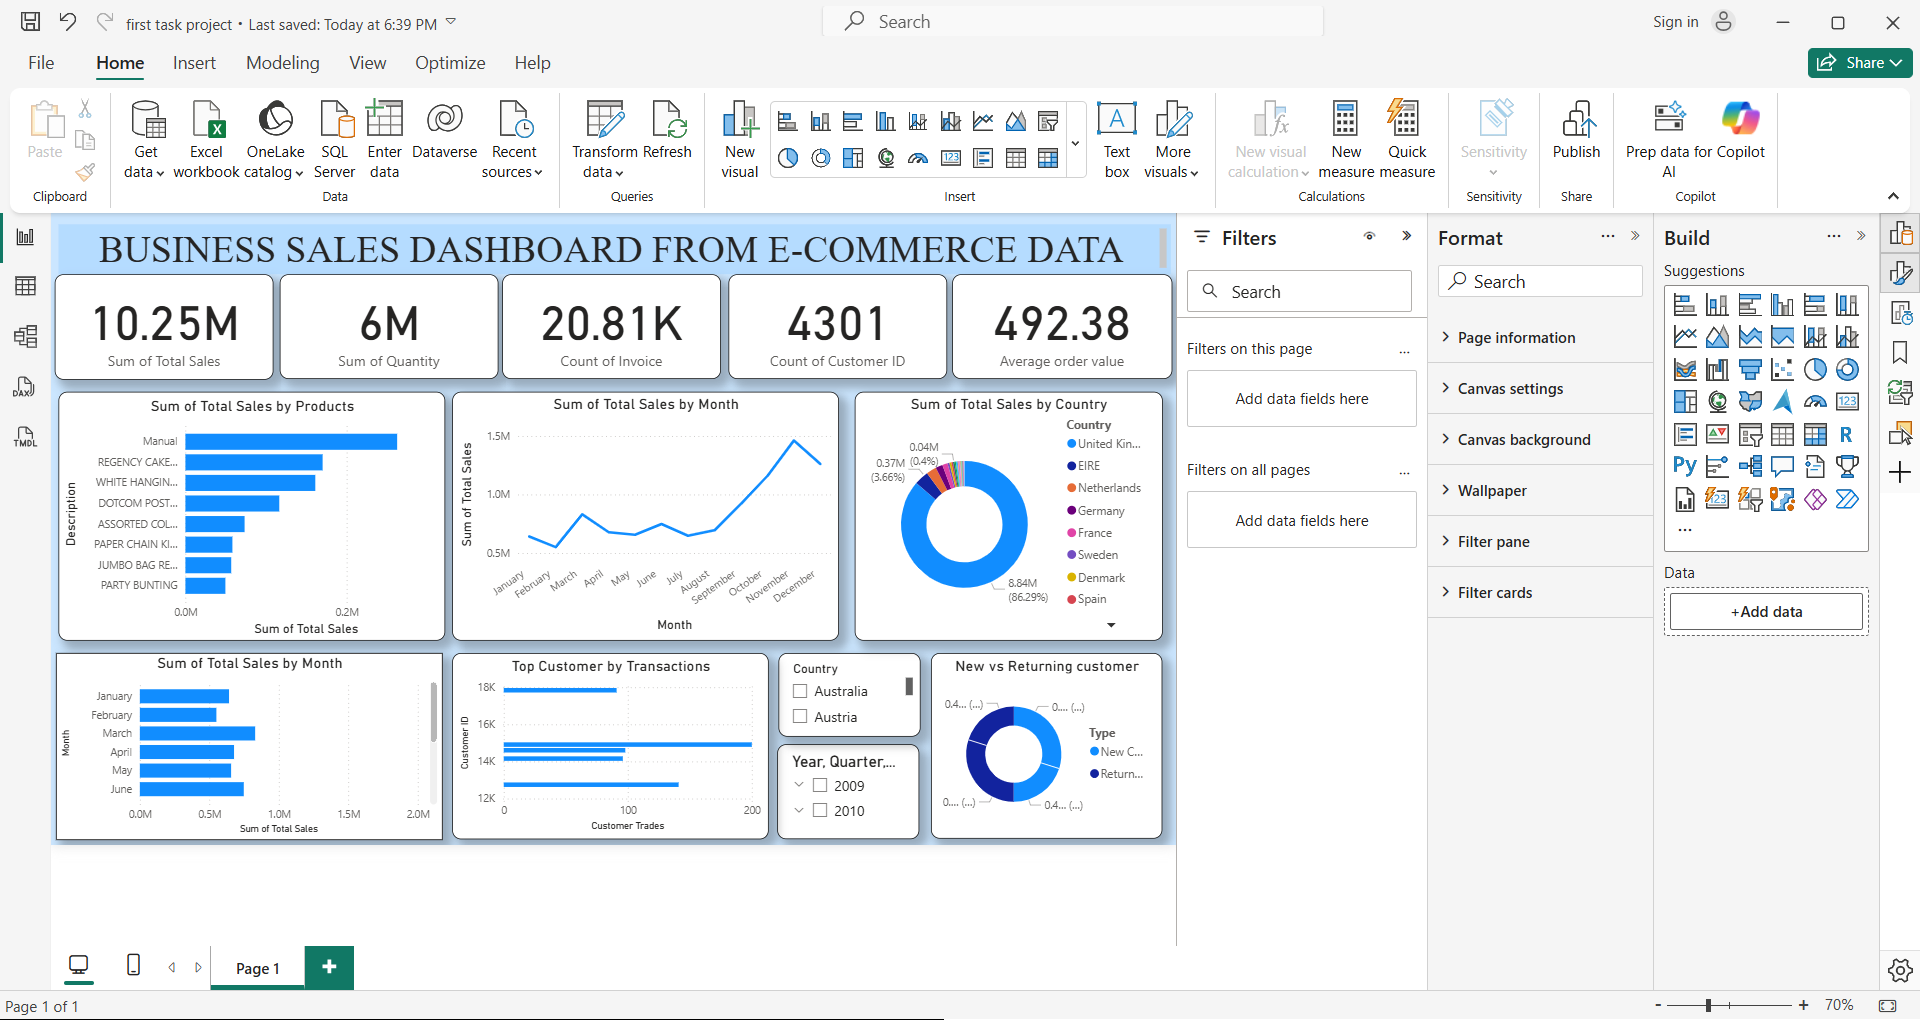

Layout of this report page (visuals, bound fields, positions):
{"tool":"powerbi","page":{"name":"Page 1","canvas":[1280,720],"ordinal":0},"visuals":[{"type":"card","fields":{"Values":["Sum(Year 2009-2010.Total Sales)"]},"box":[4,70,249,120],"z":0},{"type":"card","fields":{"Values":["Sum(Year 2009-2010.Quantity)"]},"box":[260,70,248.8,119.4],"z":1000},{"type":"card","fields":{"Values":["Count(Year 2009-2010.Invoice)"]},"box":[514,70,248.8,119.4],"z":2000},{"type":"card","fields":{"Values":["Count(Year 2009-2010.Customer ID)"]},"box":[771,70,248.8,119.4],"z":3000},{"type":"card","fields":{"Values":["Year 2009-2010.Average order value"]},"box":[1025,70,250,119.4],"z":4000},{"type":"clusteredBarChart","title":"Sum of Total Sales by Products","fields":{"Y":["Sum(Year 2009-2010.Total Sales)"],"Category":["Year 2009-2010.Description"]},"box":[4,204,440,283.3],"z":5000},{"type":"lineChart","fields":{"Y":["Sum(Year 2009-2010.Total Sales)"],"Category":["Year 2009-2010.InvoiceDate.Variation.Date Hierarchy.Month"]},"box":[457.1,204,440,282.9],"z":6000},{"type":"slicer","fields":{"Values":["Year 2009-2010.InvoiceDate.Variation.Date Hierarchy.Year","Year 2009-2010.InvoiceDate.Variation.Date Hierarchy.Quarter","Year 2009-2010.InvoiceDate.Variation.Date Hierarchy.Month","Year 2009-2010.InvoiceDate.Variation.Date Hierarchy.Day"]},"box":[826.7,605,161.7,108.3],"z":8000},{"type":"slicer","fields":{"Values":["Year 2009-2010.Country"]},"box":[828.3,500,161.7,95],"z":9000},{"type":"clusteredBarChart","fields":{"Category":["Year 2009-2010.InvoiceDate.Variation.Date Hierarchy.Month"],"Y":["Sum(Year 2009-2010.Total Sales)"]},"box":[5,500,440,212.5],"z":10000},{"type":"donutChart","fields":{"Category":["Year 2009-2010.Country"],"Y":["Sum(Year 2009-2010.Total Sales)"]},"box":[908.6,204,350,282.9],"z":10001},{"type":"clusteredBarChart","title":"Top Customer by Transactions","fields":{"Category":["Year 2009-2010.Customer ID"],"Y":["Year 2009-2010.Customer Trades"]},"box":[456.7,500,360,211.7],"z":10002},{"type":"textbox","box":[220,0,835,70],"z":10003}]}

Visuals, with their boxes on the page's 1280x720 design canvas (x1, y1, x2, y2). These are canvas units, not pixel positions in the 1920x1020 screenshot, which may show the page scaled, cropped or inside an application window:
card - Sum(Year 2009-2010.Total Sales): 4:70:253:190
card - Sum(Year 2009-2010.Quantity): 260:70:509:189
card - Count(Year 2009-2010.Invoice): 514:70:763:189
card - Count(Year 2009-2010.Customer ID): 771:70:1020:189
card - Year 2009-2010.Average order value: 1025:70:1275:189
"Sum of Total Sales by Products" clusteredBarChart: 4:204:444:487
lineChart - Sum(Year 2009-2010.Total Sales) x Year 2009-2010.InvoiceDate.Variation.Date Hierarchy.Month: 457:204:897:487
slicer - Year 2009-2010.InvoiceDate.Variation.Date Hierarchy.Year x Year 2009-2010.InvoiceDate.Variation.Date Hierarchy.Quarter: 827:605:988:713
slicer - Year 2009-2010.Country: 828:500:990:595
clusteredBarChart - Year 2009-2010.InvoiceDate.Variation.Date Hierarchy.Month x Sum(Year 2009-2010.Total Sales): 5:500:445:712
donutChart - Year 2009-2010.Country x Sum(Year 2009-2010.Total Sales): 909:204:1259:487
"Top Customer by Transactions" clusteredBarChart: 457:500:817:712
textbox: 220:0:1055:70
